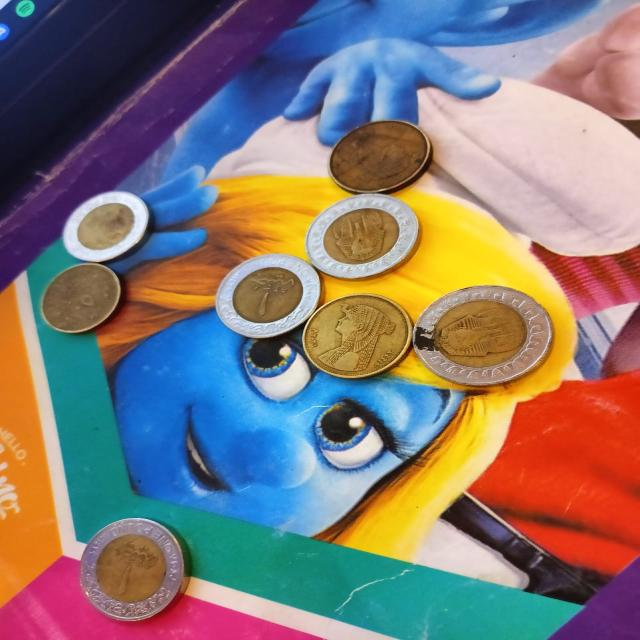Half Pound: (298, 293, 425, 378), (23, 264, 151, 338), (327, 117, 437, 196)
One Pound: (412, 280, 562, 392), (71, 515, 207, 622), (311, 185, 431, 280), (205, 258, 329, 342), (53, 194, 186, 261)
